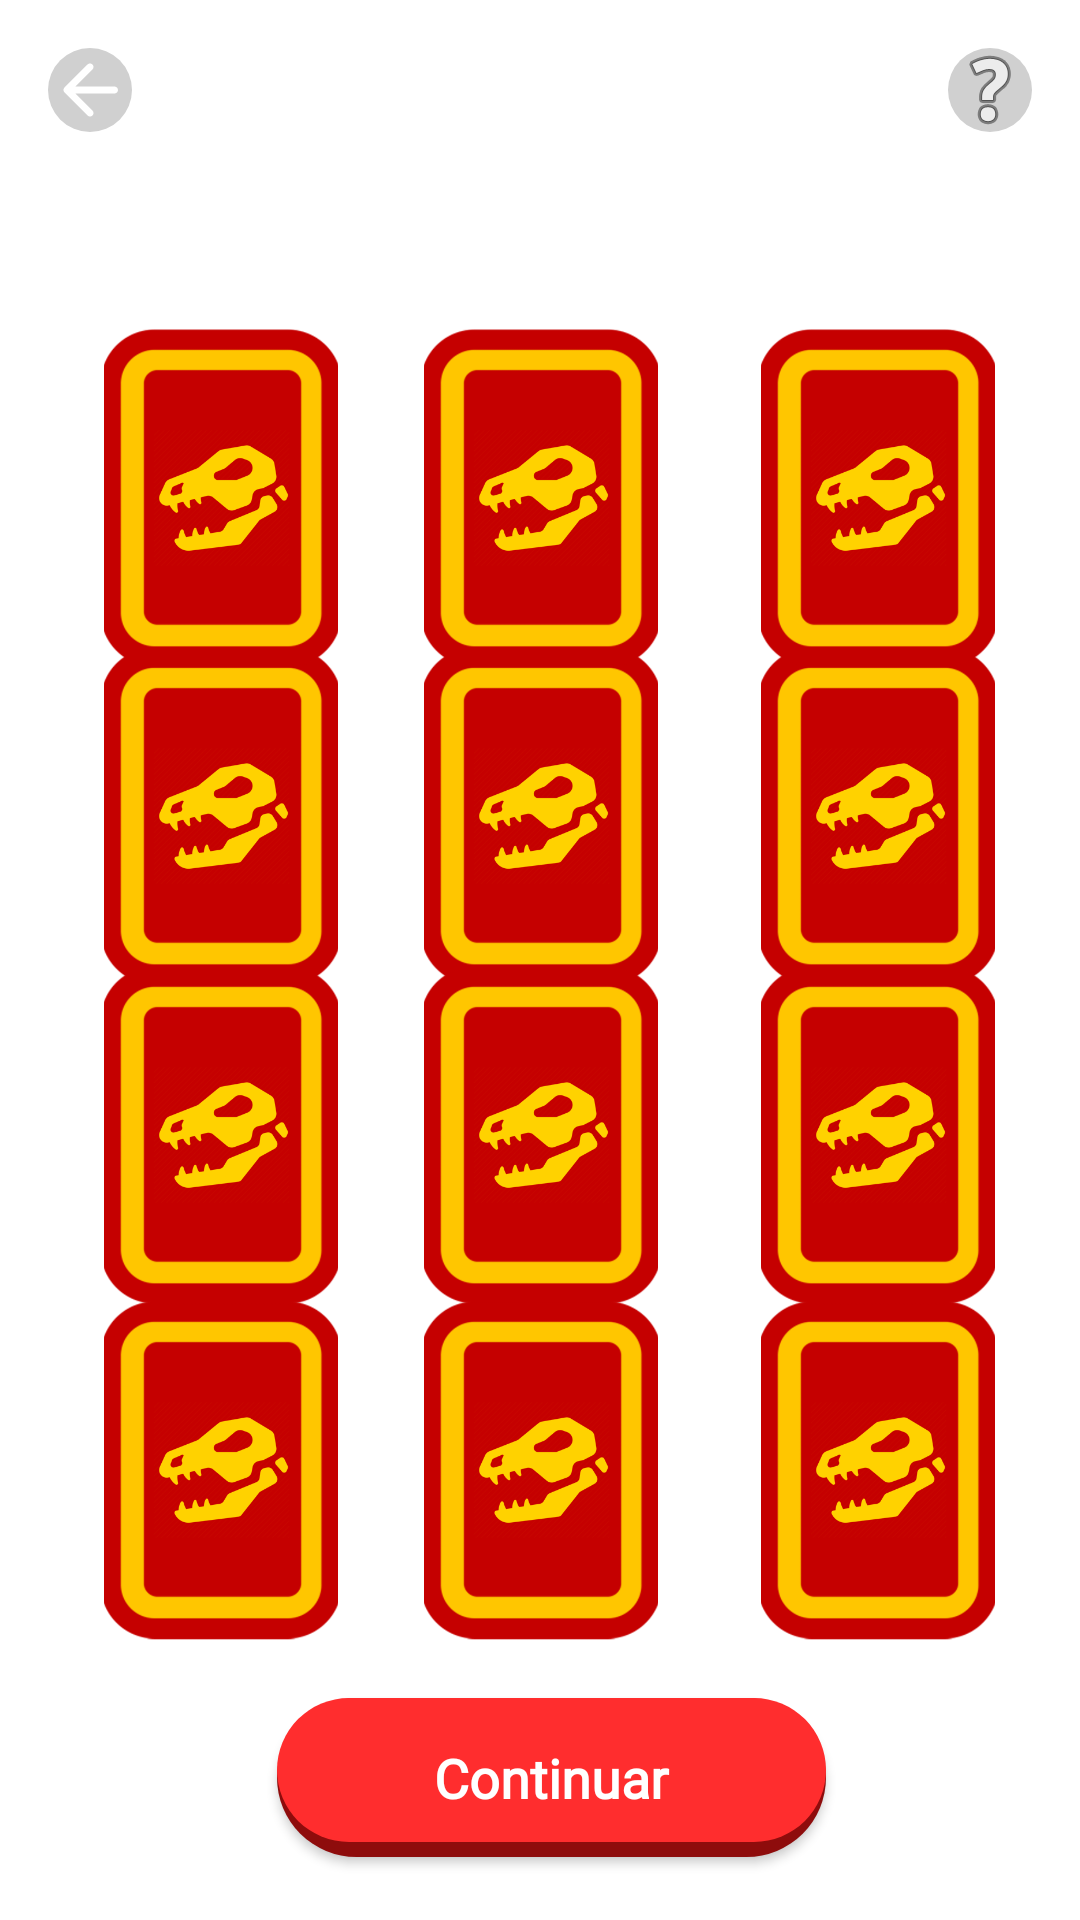

Named icons in this screenshot (1080*1920) and their bounding boxes, [x1,y1,x2,y2]:
arrow back: [48,48,132,132]
help: [948,48,1032,132]
